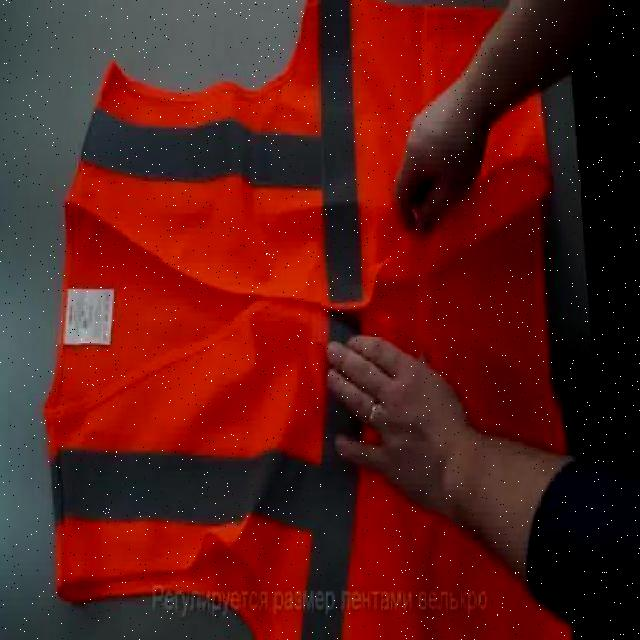Mask: (42, 0, 575, 638)
